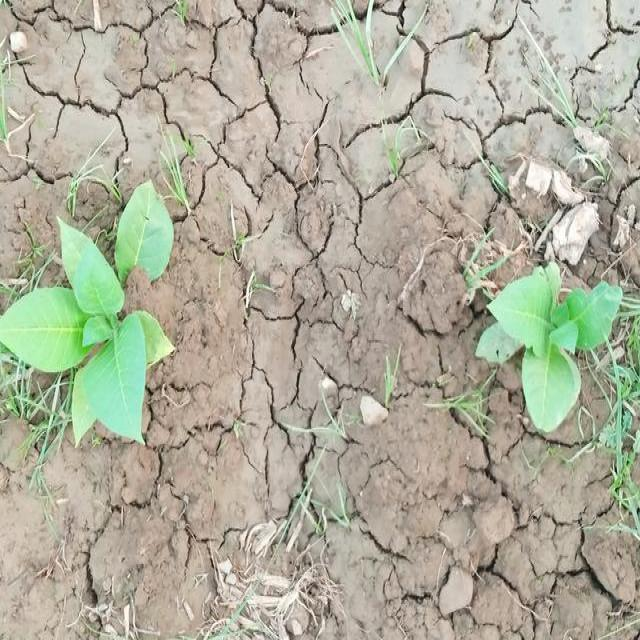crop: (9, 185, 178, 434), (482, 266, 623, 434)
